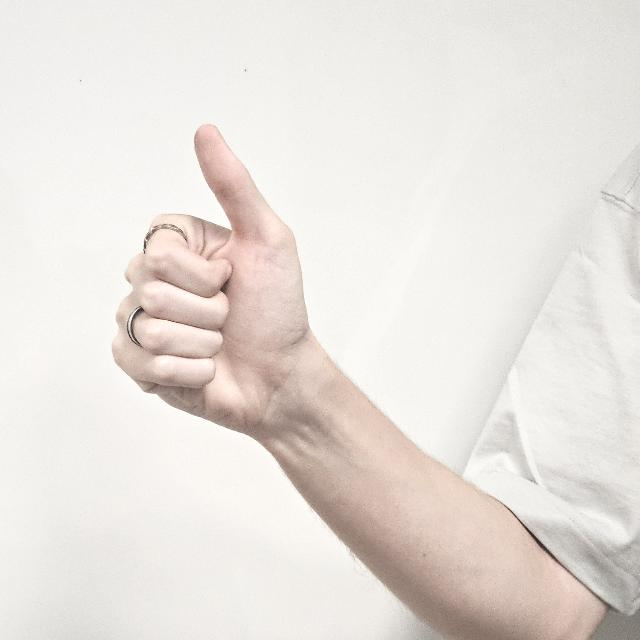Start: (114, 121, 320, 481)
